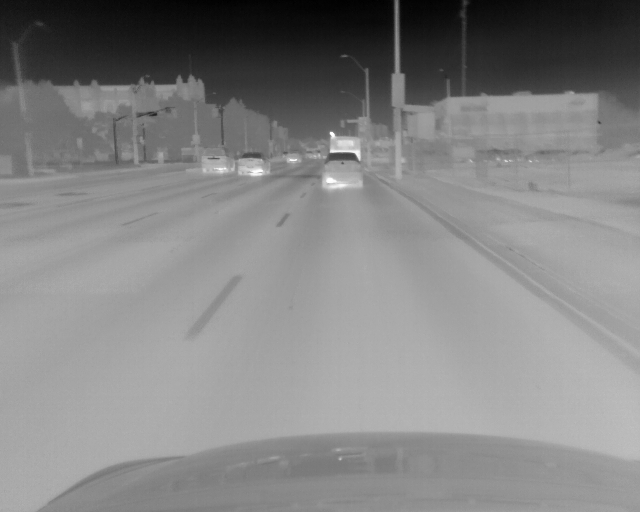car: (322, 152, 361, 188), (200, 147, 236, 174), (236, 152, 269, 177), (328, 136, 361, 159), (527, 149, 559, 164), (286, 150, 301, 164), (303, 150, 318, 161)
